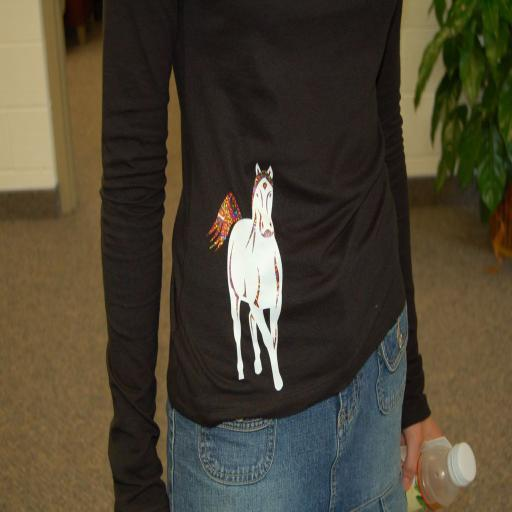horse: (204, 160, 286, 390)
